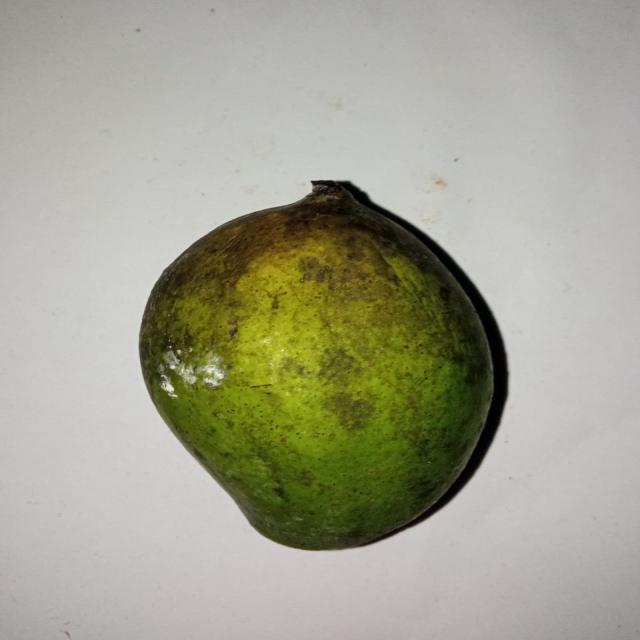rotten_mango: (138, 182, 496, 550)
